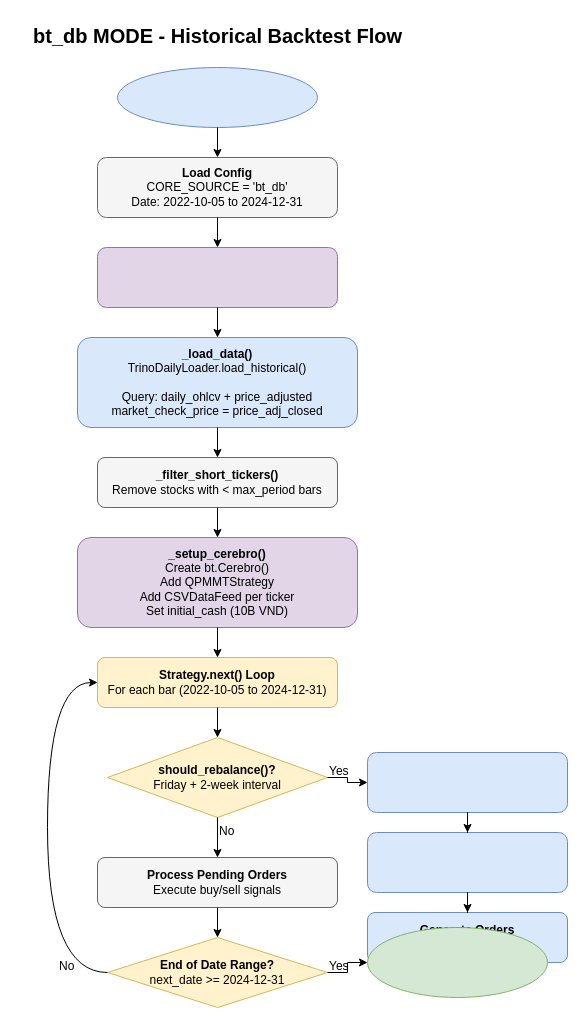
The diagram is 585 pixels wide and 1025 high, and some of its shapes have lost their labels. Here are the shapes that lost their labels. From the top down, the box of each, then its label:
(116, 66, 318, 128): START python run.py qpmmt_vn30 --mode bt_db
(96, 246, 338, 308): BacktestRunner.run() _setup_directories() _setup_logging()
(366, 752, 568, 812): Calculate Scores rs1 = self.inds[d]['rs1'][0] (Pre-computed indicators)
(366, 832, 568, 892): Select Portfolio Top 15% by momentum Equal-weight allocation
(366, 926, 548, 998): END cerebro.stop() Output: results/*.csv
